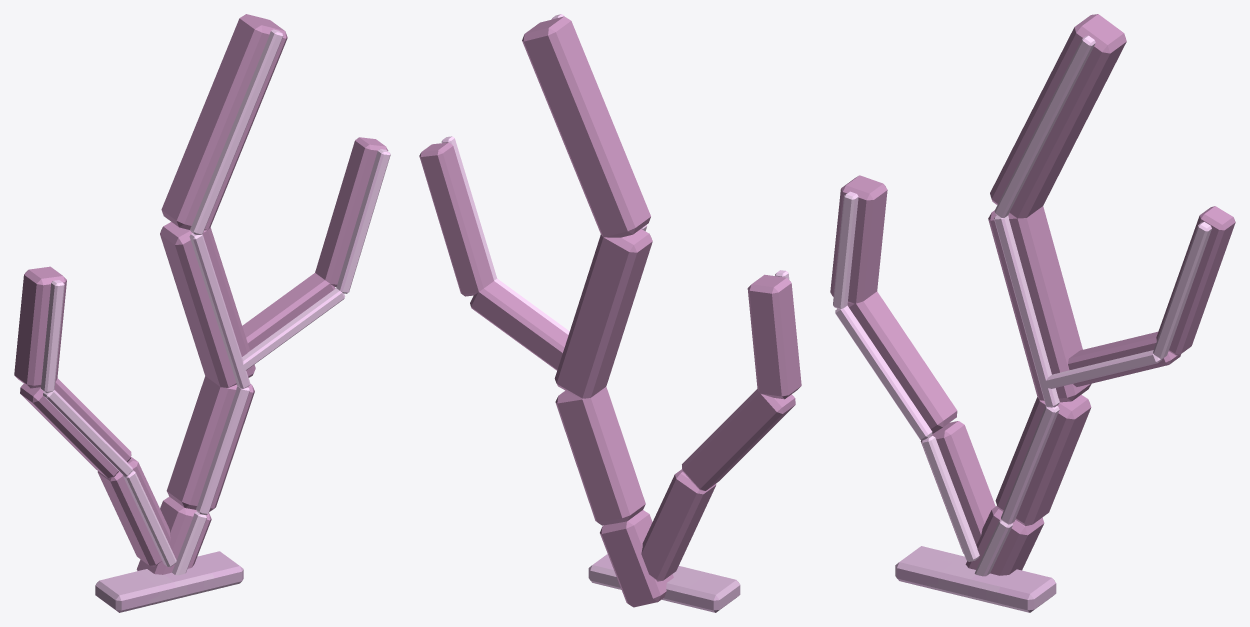
File: Corrupt_Roots.fbx
3 views of the same model, side by side, from view 1: azimuth 30°, elevation 25°; view 2: azimuth 150°, elevation 25°; view 3: azimuth 330°, elevation 25° (orthographic). The views are drawn at different scales.
Visible parts, largest first — view 1: Corrupt_Roots; view 2: Corrupt_Roots; view 3: Corrupt_Roots.
Boxes of the visible parts, x1=… form: Corrupt_Roots: x1=14, y1=14, x2=390, y2=612; Corrupt_Roots: x1=419, y1=14, x2=801, y2=612; Corrupt_Roots: x1=830, y1=14, x2=1235, y2=612.
Bounding box in the file's own units: 238 × 342 × 38.
